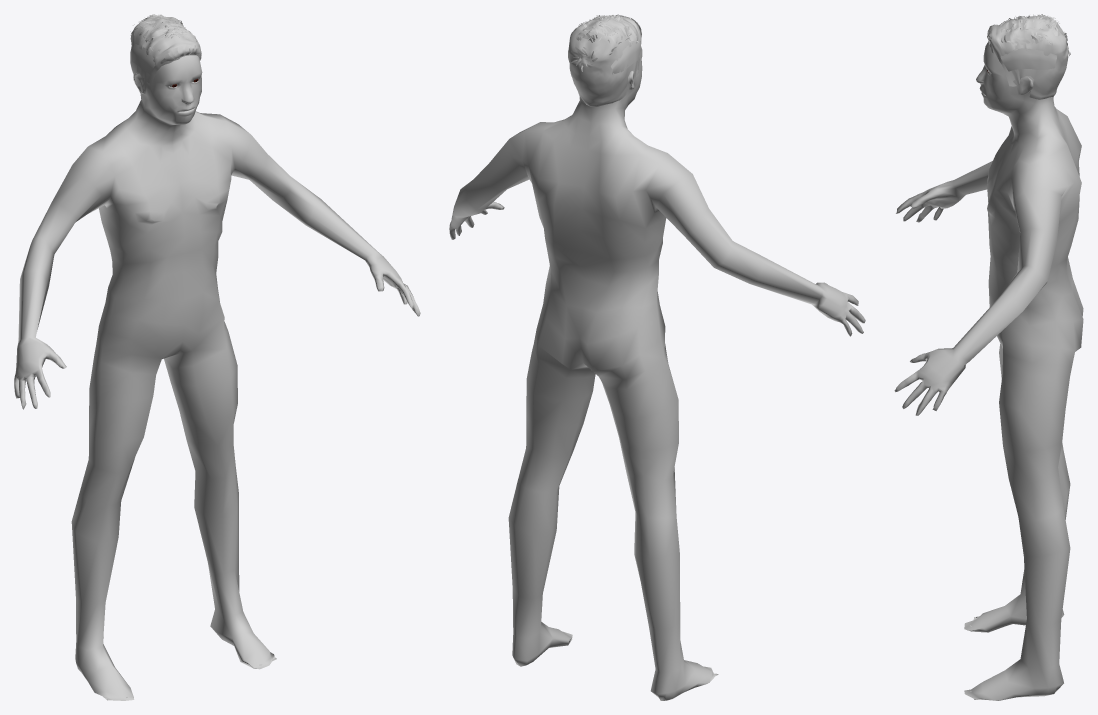
Rendered from npc08.fbx.
3 views of the same model, side by side, from view 1: azimuth 30°, elevation 25°; view 2: azimuth 150°, elevation 25°; view 3: azimuth 270°, elevation 25° (orthographic). The views are drawn at different scales.
Parts seen in each view (by area): view 1: female1605Mesh, short01Mesh; view 2: female1605Mesh, short01Mesh; view 3: female1605Mesh, short01Mesh.
Boxes of the visible parts, x1,y1,x2,y2 form: female1605Mesh: (14,55,420,700); short01Mesh: (130,14,201,94); female1605Mesh: (449,46,865,700); short01Mesh: (568,14,641,106); female1605Mesh: (894,40,1083,700); short01Mesh: (987,14,1070,99).
Bounding box in the file's own units: 11.11 × 17.2 × 4.58.
